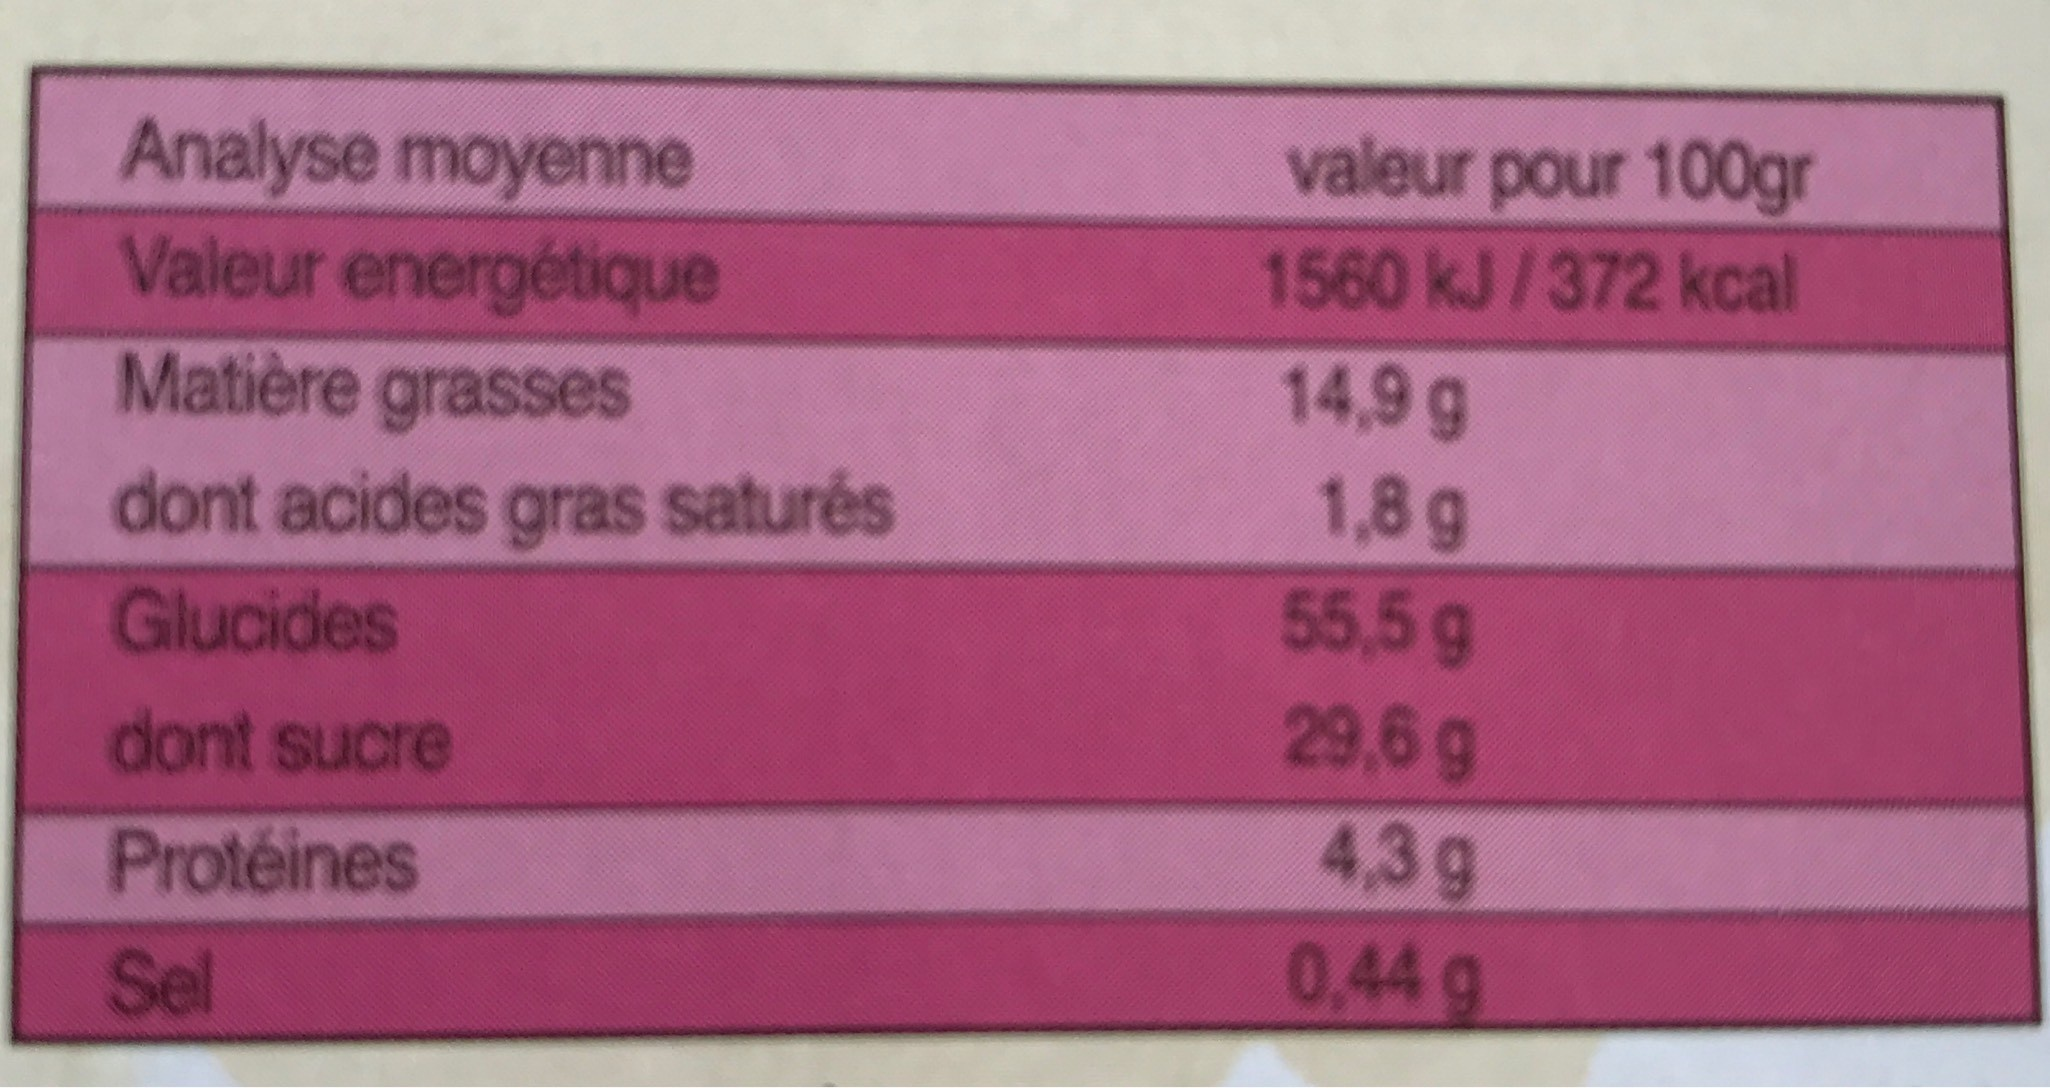column: (85, 107, 898, 1022), (1264, 128, 1817, 1022)
table: (14, 61, 2034, 1051)
